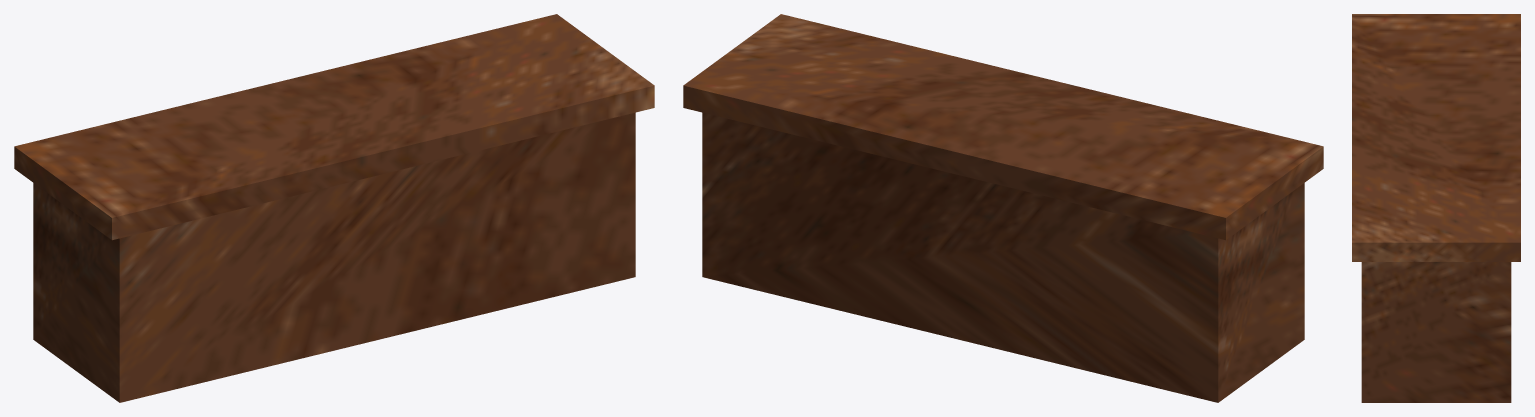
Rendered from long-cupboard.fbx.
3 renders of one model, left to right at view 1: azimuth 30°, elevation 25°; view 2: azimuth 150°, elevation 25°; view 3: azimuth 270°, elevation 25°, orthographic. The views are drawn at different scales.
Visible parts, largest first — view 1: Table; view 2: Table; view 3: Table.
Part boxes in pixels (x1,y1,x2,y2): Table: (14, 14, 654, 402); Table: (683, 14, 1323, 402); Table: (1352, 14, 1520, 402).
Bounding box in the file's own units: 210 × 71.13 × 65.53.
